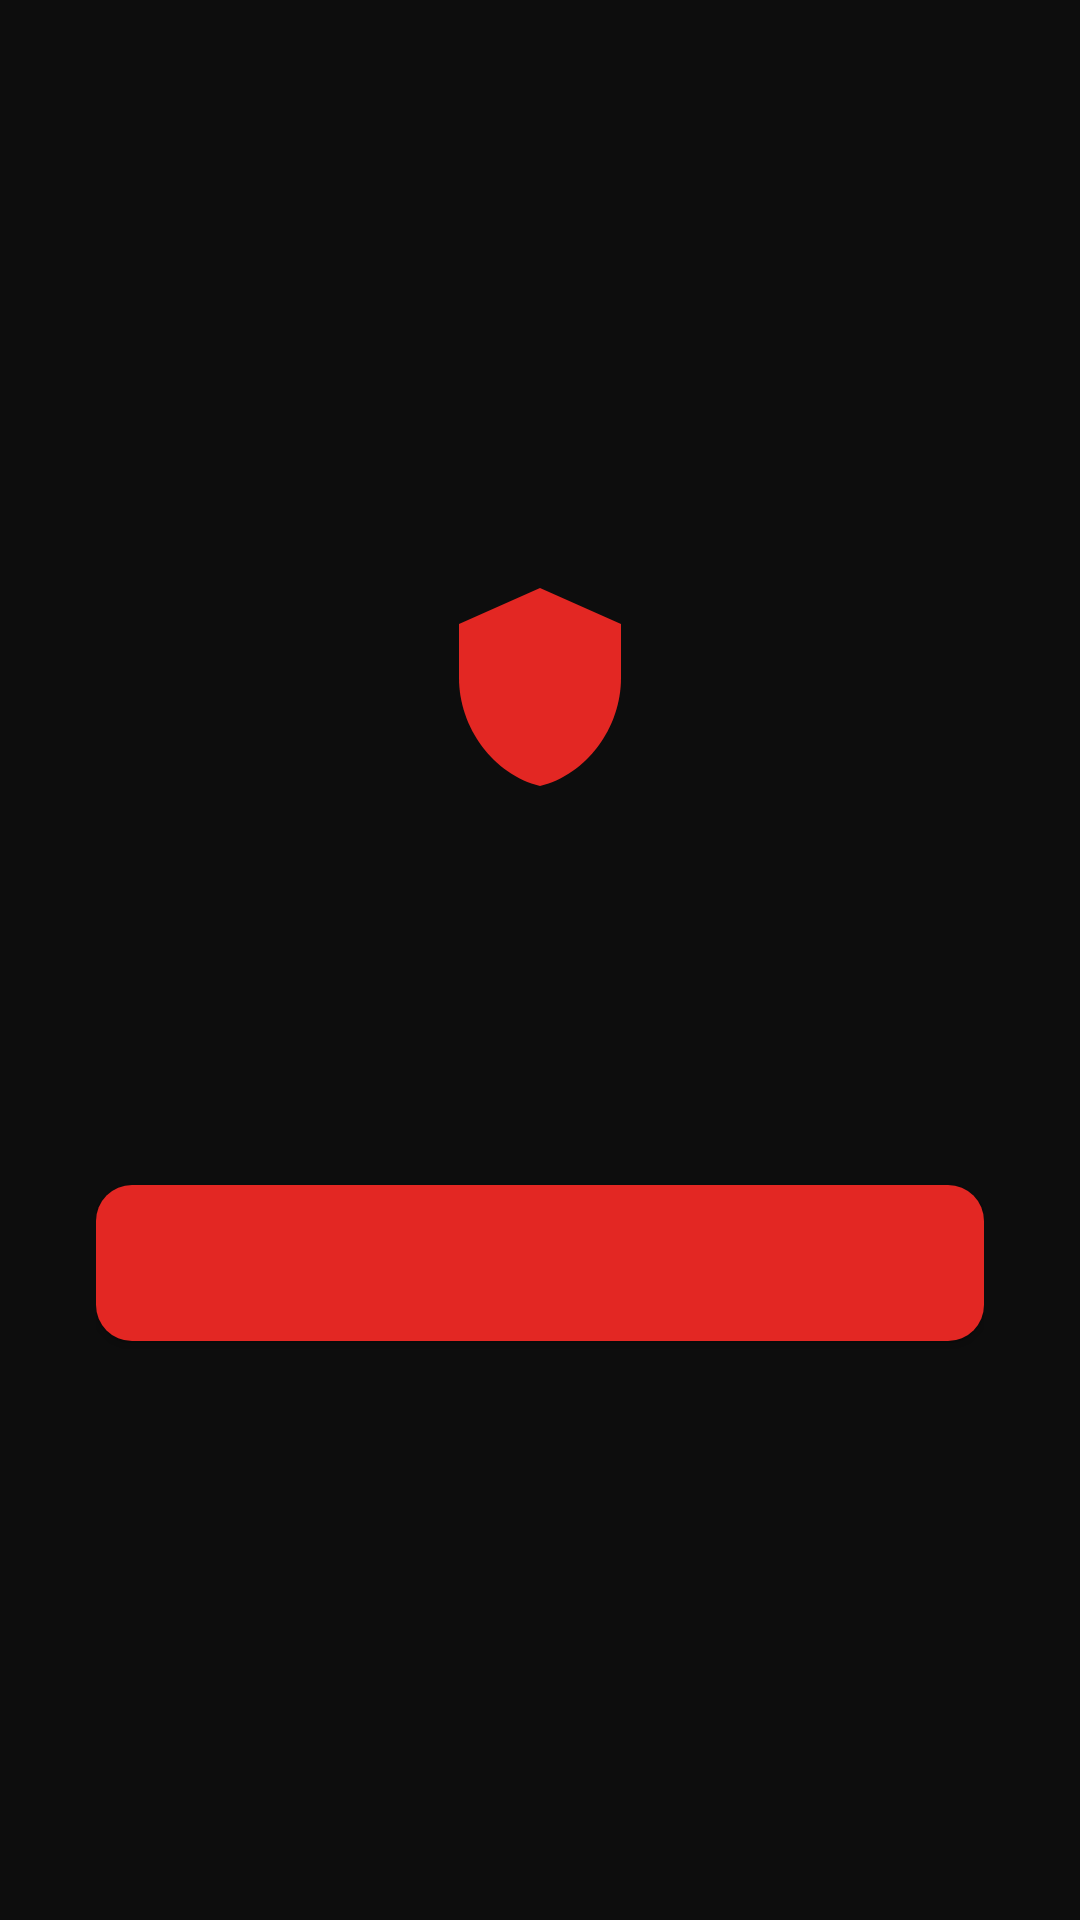

Named icons in this screenshot (1080×1920) and their centers, (x=x, y=y):
shield: (x=540, y=687)
